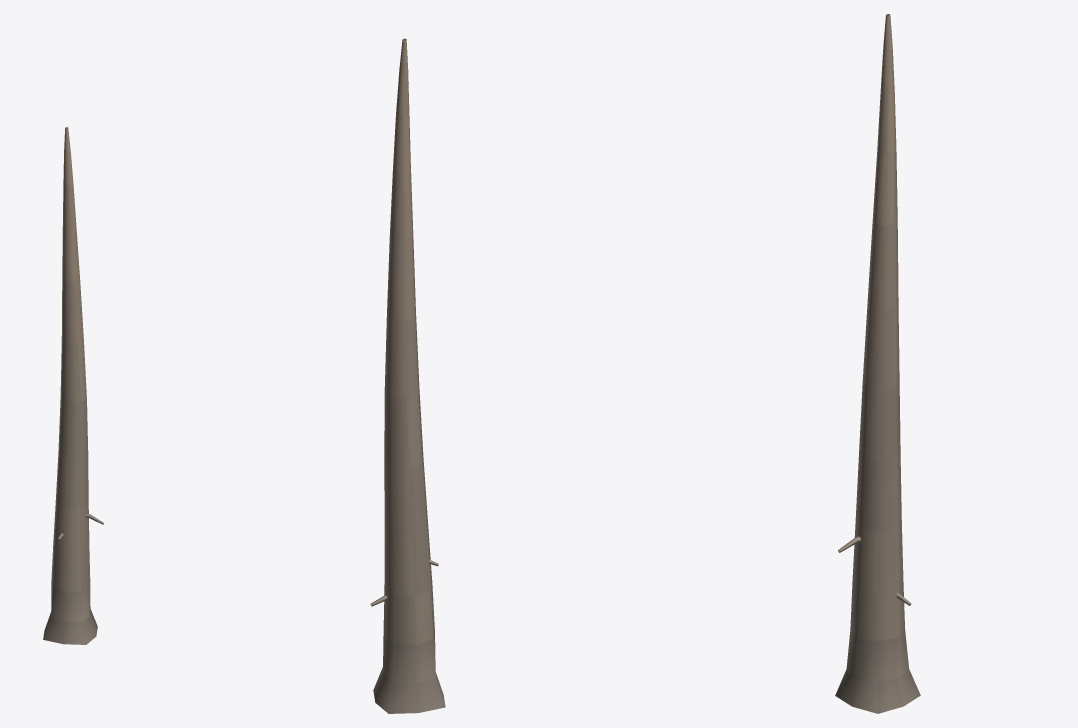
File: ShorePine1_bark.glb
3 views of the same model, side by side, from view 1: azimuth 30°, elevation 25°; view 2: azimuth 150°, elevation 25°; view 3: azimuth 270°, elevation 25° (orthographic). The views are drawn at different scales.
Parts seen in each view (by area): view 1: ShorePine1_bark; view 2: ShorePine1_bark; view 3: ShorePine1_bark.
Boxes of the visible parts, x1=… form: ShorePine1_bark: x1=43, y1=127, x2=103, y2=644; ShorePine1_bark: x1=370, y1=38, x2=445, y2=713; ShorePine1_bark: x1=835, y1=14, x2=920, y2=713.
Bounding box in the file's own units: 12.23 × 25.31 × 11.66.
